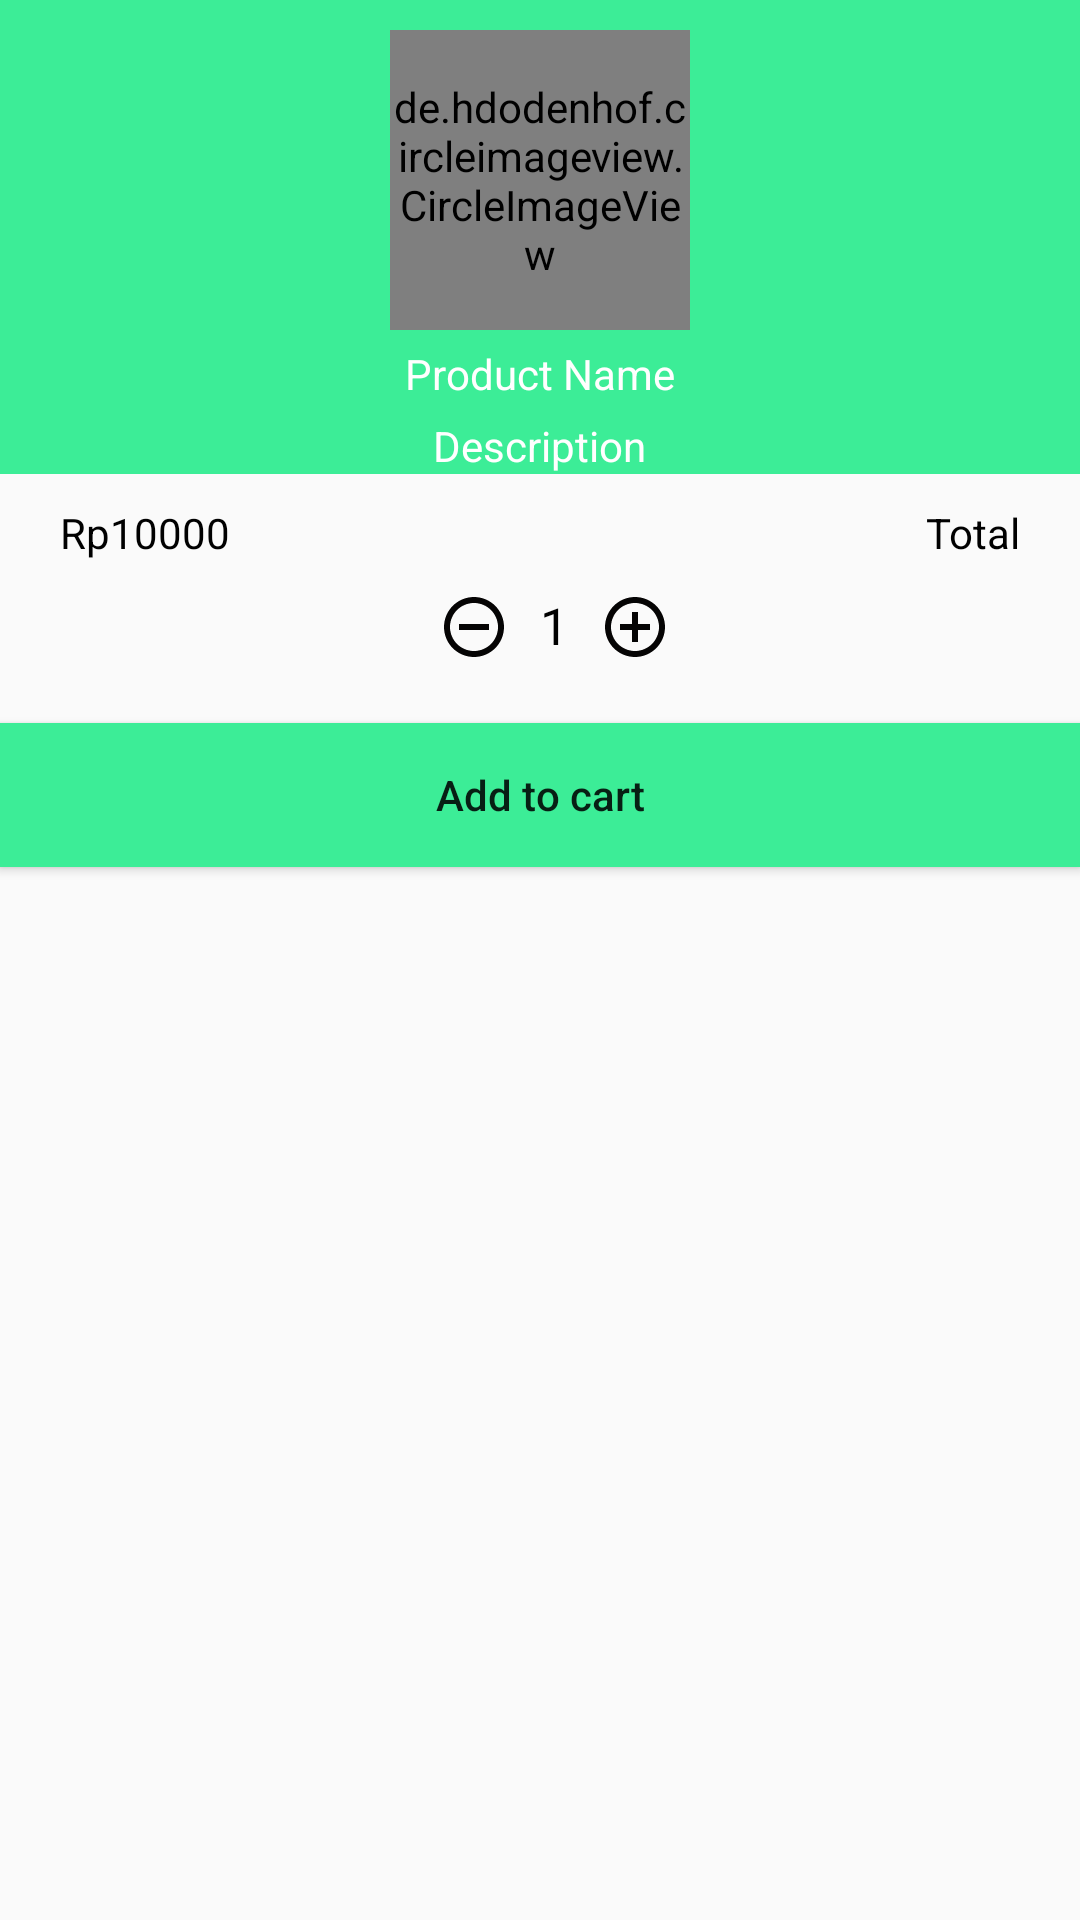

Where to tap for icons on this 1080*1920 app screen, as (x=x, y=y):
remove: (x=474, y=627)
